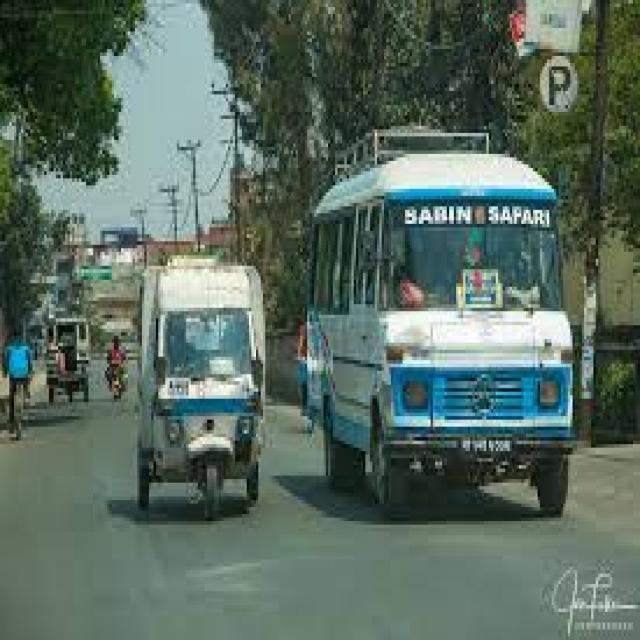bodaboda: (103, 346, 130, 407)
bus: (300, 120, 576, 512)
tuktuk: (134, 247, 273, 528)
